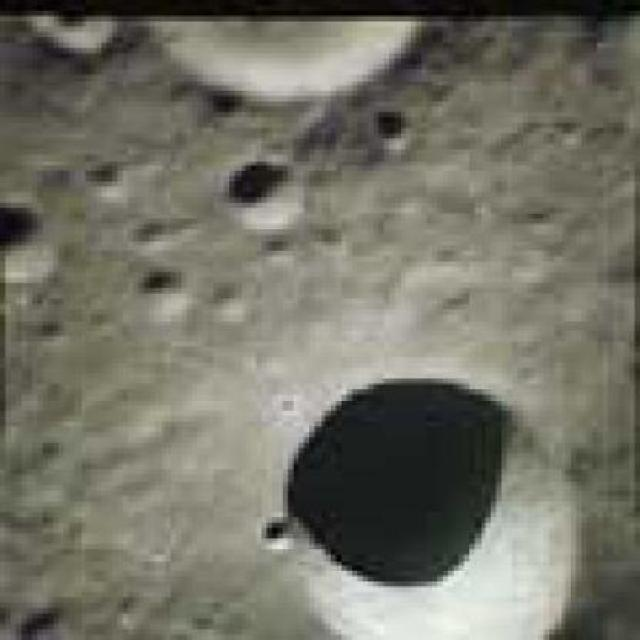crater: (279, 376, 576, 638), (226, 162, 303, 235), (0, 202, 46, 280), (370, 113, 408, 142)
